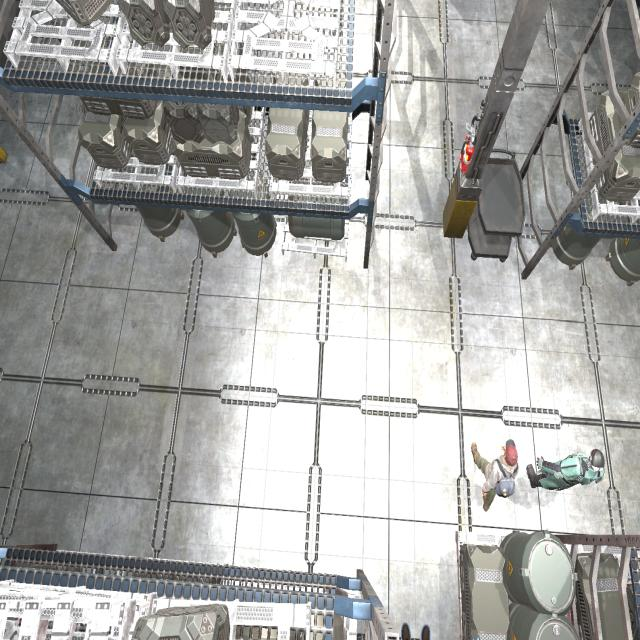thiefs: (468, 435, 520, 516)
